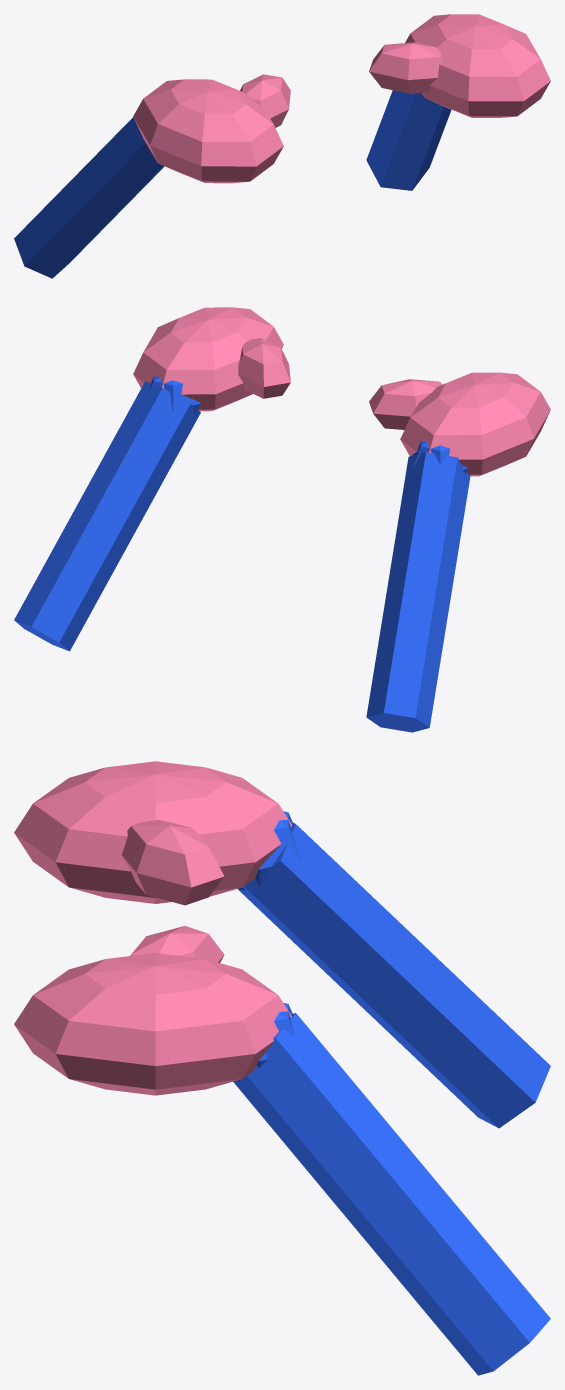
File: cop_hands_0.glb
3 renders of one model, top to bottom at view 1: azimuth 30°, elevation 25°; view 2: azimuth 150°, elevation 25°; view 3: azimuth 270°, elevation 25°, orthographic. The views are drawn at different scales.
Parts seen in each view (by area): view 1: hand_skin_rosa, arms_shirt; view 2: arms_shirt, hand_skin_rosa; view 3: arms_shirt, hand_skin_rosa.
Part boxes in pixels (x1=…): hand_skin_rosa: x1=133, y1=14, x2=550, y2=183; arms_shirt: x1=14, y1=90, x2=451, y2=278; arms_shirt: x1=14, y1=376, x2=470, y2=732; hand_skin_rosa: x1=133, y1=307, x2=550, y2=476; arms_shirt: x1=233, y1=811, x2=550, y2=1375; hand_skin_rosa: x1=14, y1=761, x2=291, y2=1095.
Size of the model in its own units: 0.7283 by 0.4397 by 0.5685.
